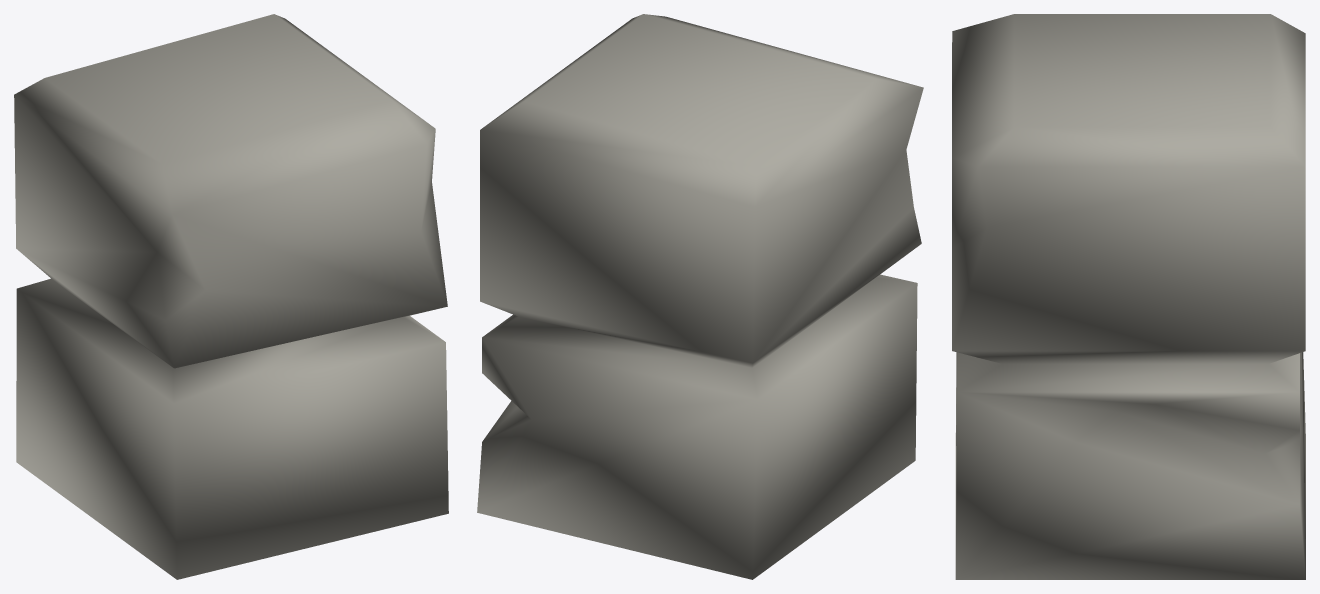
The model's file is rpgpp_ag_basement_01_3x1_corner.fbx.
3 renders of one model, left to right at view 1: azimuth 30°, elevation 25°; view 2: azimuth 150°, elevation 25°; view 3: azimuth 270°, elevation 25°, orthographic. The views are drawn at different scales.
Visible parts, largest first — view 1: rpgpp_ag_basement_01_3x1_corner; view 2: rpgpp_ag_basement_01_3x1_corner; view 3: rpgpp_ag_basement_01_3x1_corner.
Boxes of the visible parts, x1,y1,x2,y2 form: rpgpp_ag_basement_01_3x1_corner: [14, 14, 448, 579]; rpgpp_ag_basement_01_3x1_corner: [477, 14, 923, 579]; rpgpp_ag_basement_01_3x1_corner: [952, 14, 1305, 579].
Bounding box in the file's own units: 0.9078 × 1.25 × 0.9182.
